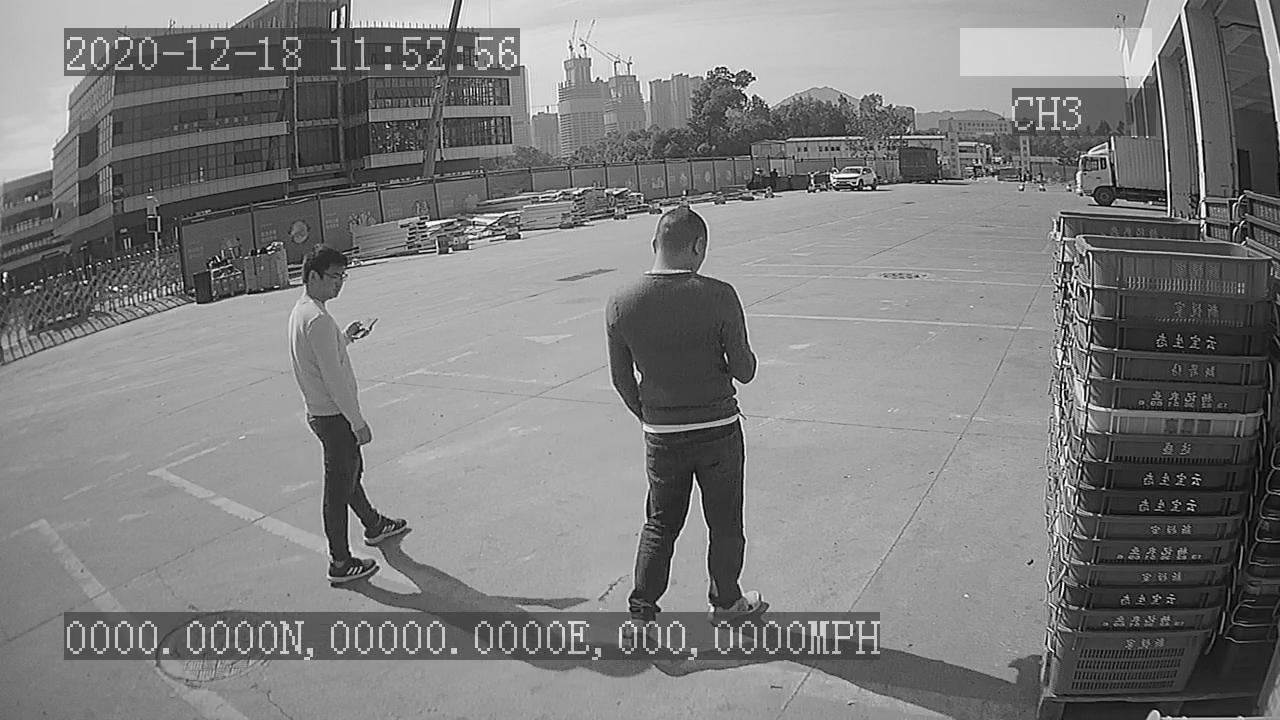person: (276, 236, 415, 592)
